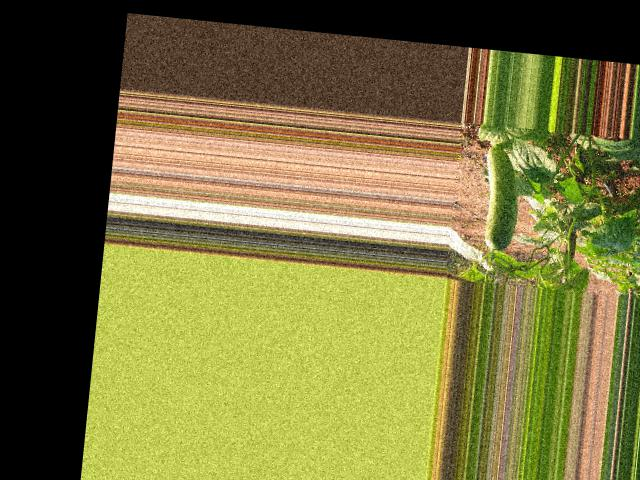cucumber: (477, 145, 523, 251)
